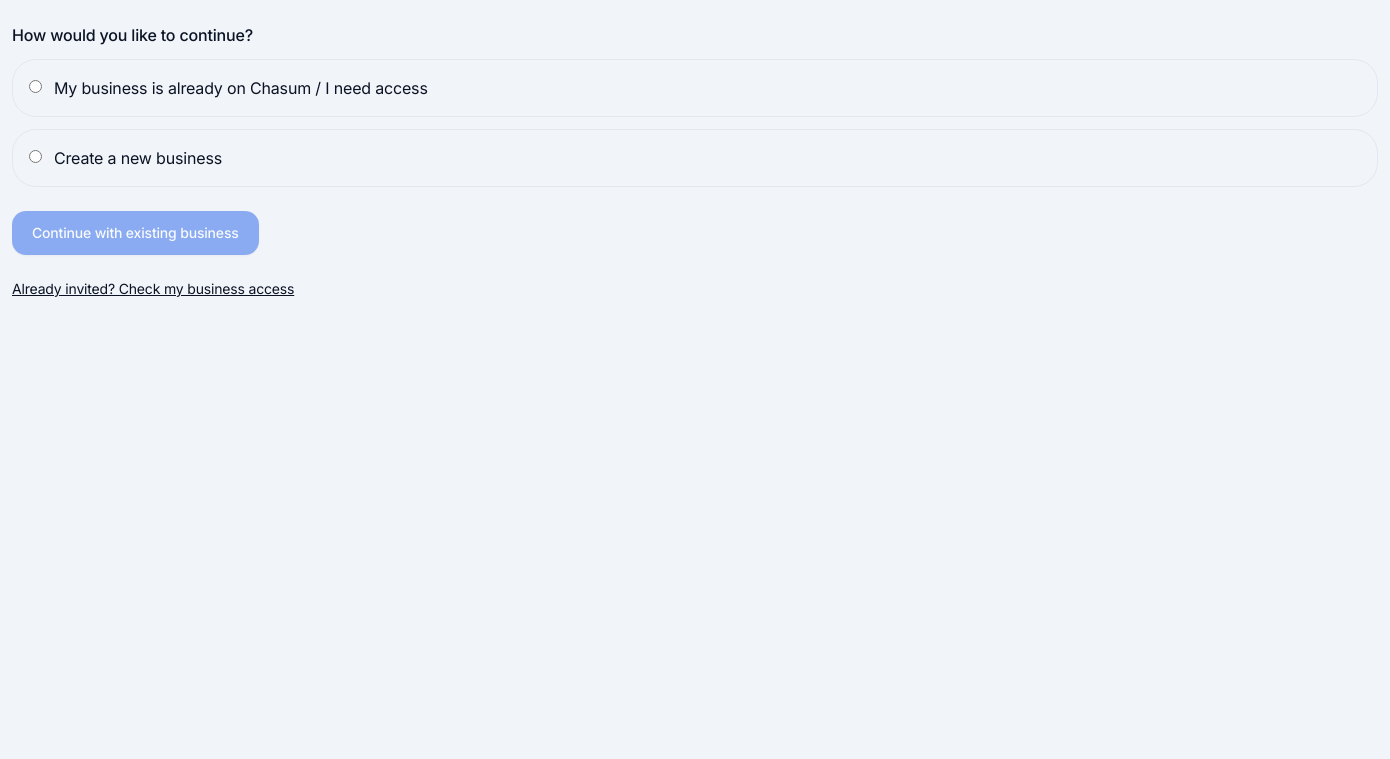
Test: business identity onboarding › new business requires identity details and preserves billing truth
Click the radio button labelled "Create a new business" at (36, 156), box [29,150,42,163]
(page scrolled)
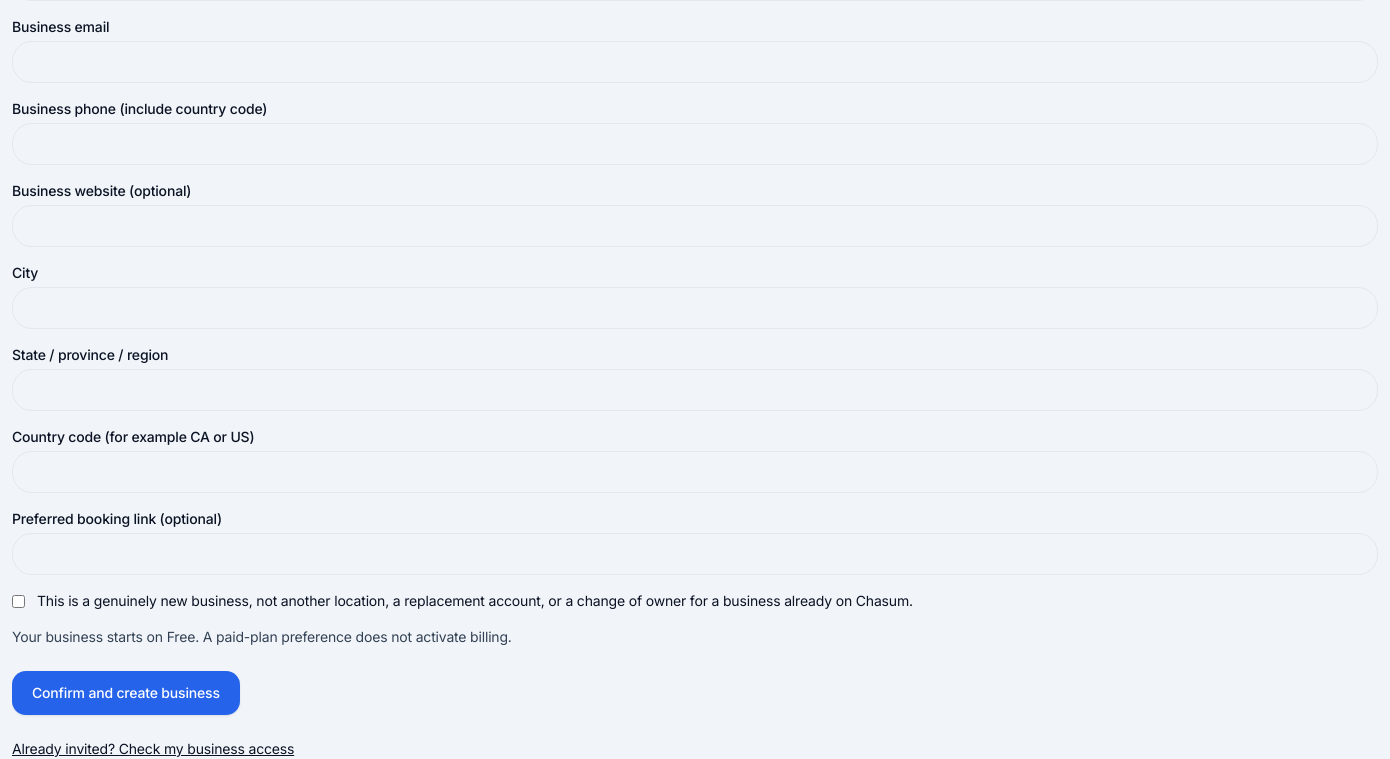
Expected: the text "paid-plan preference does not activate billing" is shown, [12,628,512,645]
Expected: the button "Confirm and create business" is enabled, [12,671,240,715]
